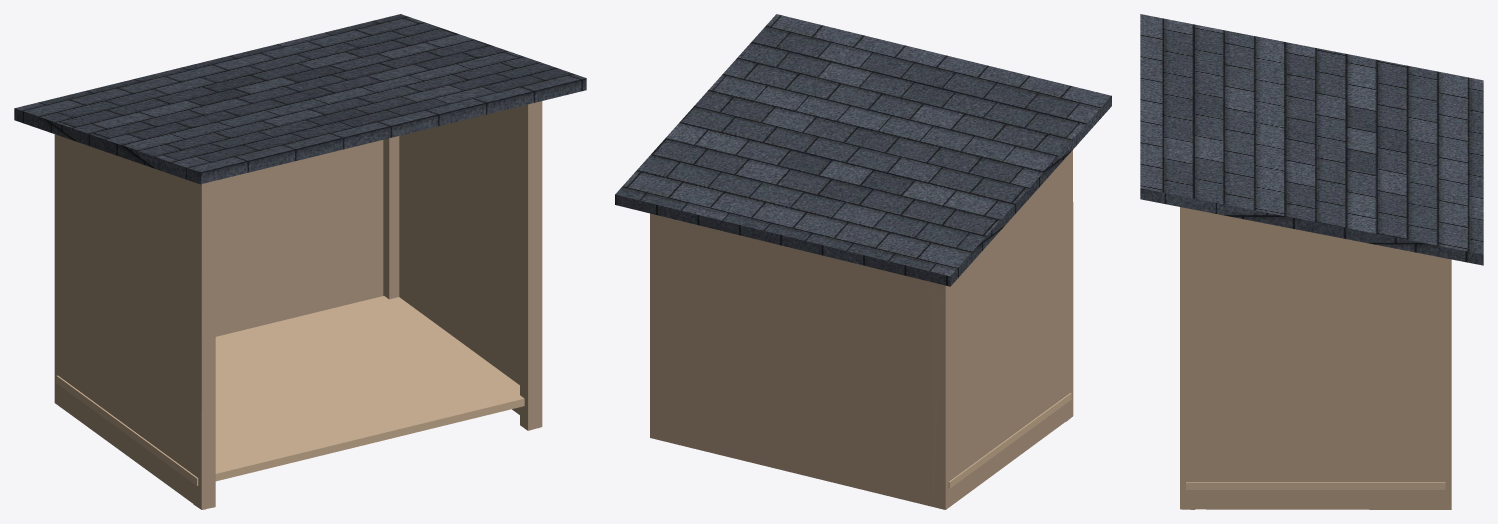
The model's file is woodshed.glb.
The picture shows the model from 3 angles, left to right: view 1: azimuth 30°, elevation 25°; view 2: azimuth 150°, elevation 25°; view 3: azimuth 270°, elevation 25°; orthographic projection. The views are drawn at different scales.
Parts seen in each view (by area): view 1: woodshed_board, woodshed_shingle, woodshed_wood; view 2: woodshed_board, woodshed_shingle, woodshed_wood; view 3: woodshed_board, woodshed_shingle, woodshed_wood.
Boxes of the visible parts, left/top/right/bottom form: woodshed_board: left=54, top=101, right=542, bottom=509; woodshed_shingle: left=14, top=14, right=586, bottom=184; woodshed_wood: left=56, top=296, right=524, bottom=485; woodshed_board: left=650, top=150, right=1073, bottom=509; woodshed_shingle: left=615, top=14, right=1111, bottom=286; woodshed_wood: left=948, top=393, right=1071, bottom=488; woodshed_board: left=1180, top=207, right=1451, bottom=509; woodshed_shingle: left=1140, top=14, right=1483, bottom=265; woodshed_wood: left=1186, top=482, right=1445, bottom=489.
Size of the model in its own units: 2.7 by 2.4 by 2.25.
Materials: 3 (1 with a texture image).
